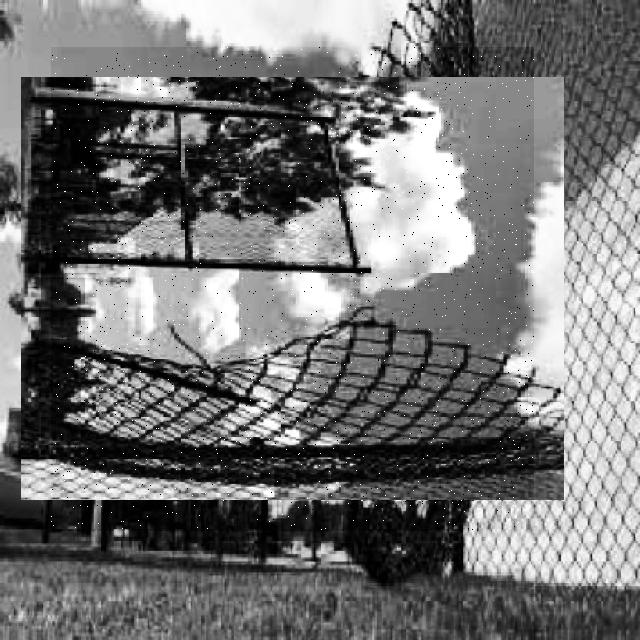anomaly-fence: (51, 47, 534, 531)
